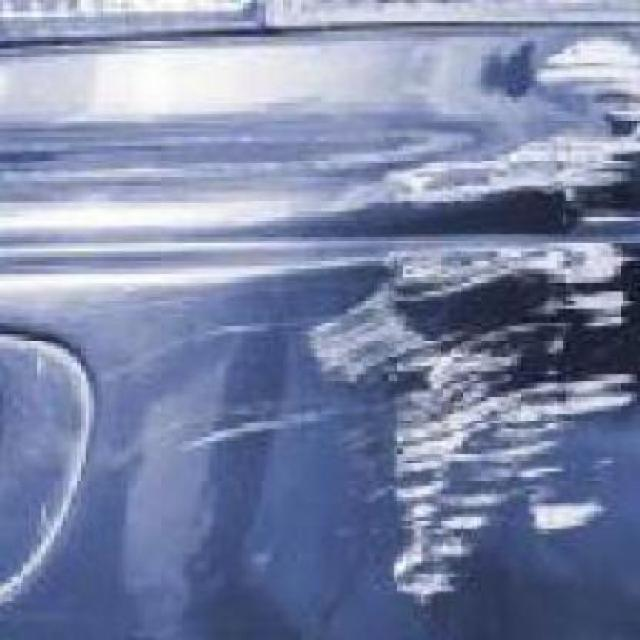dent-or-scratch: (350, 30, 638, 608)
